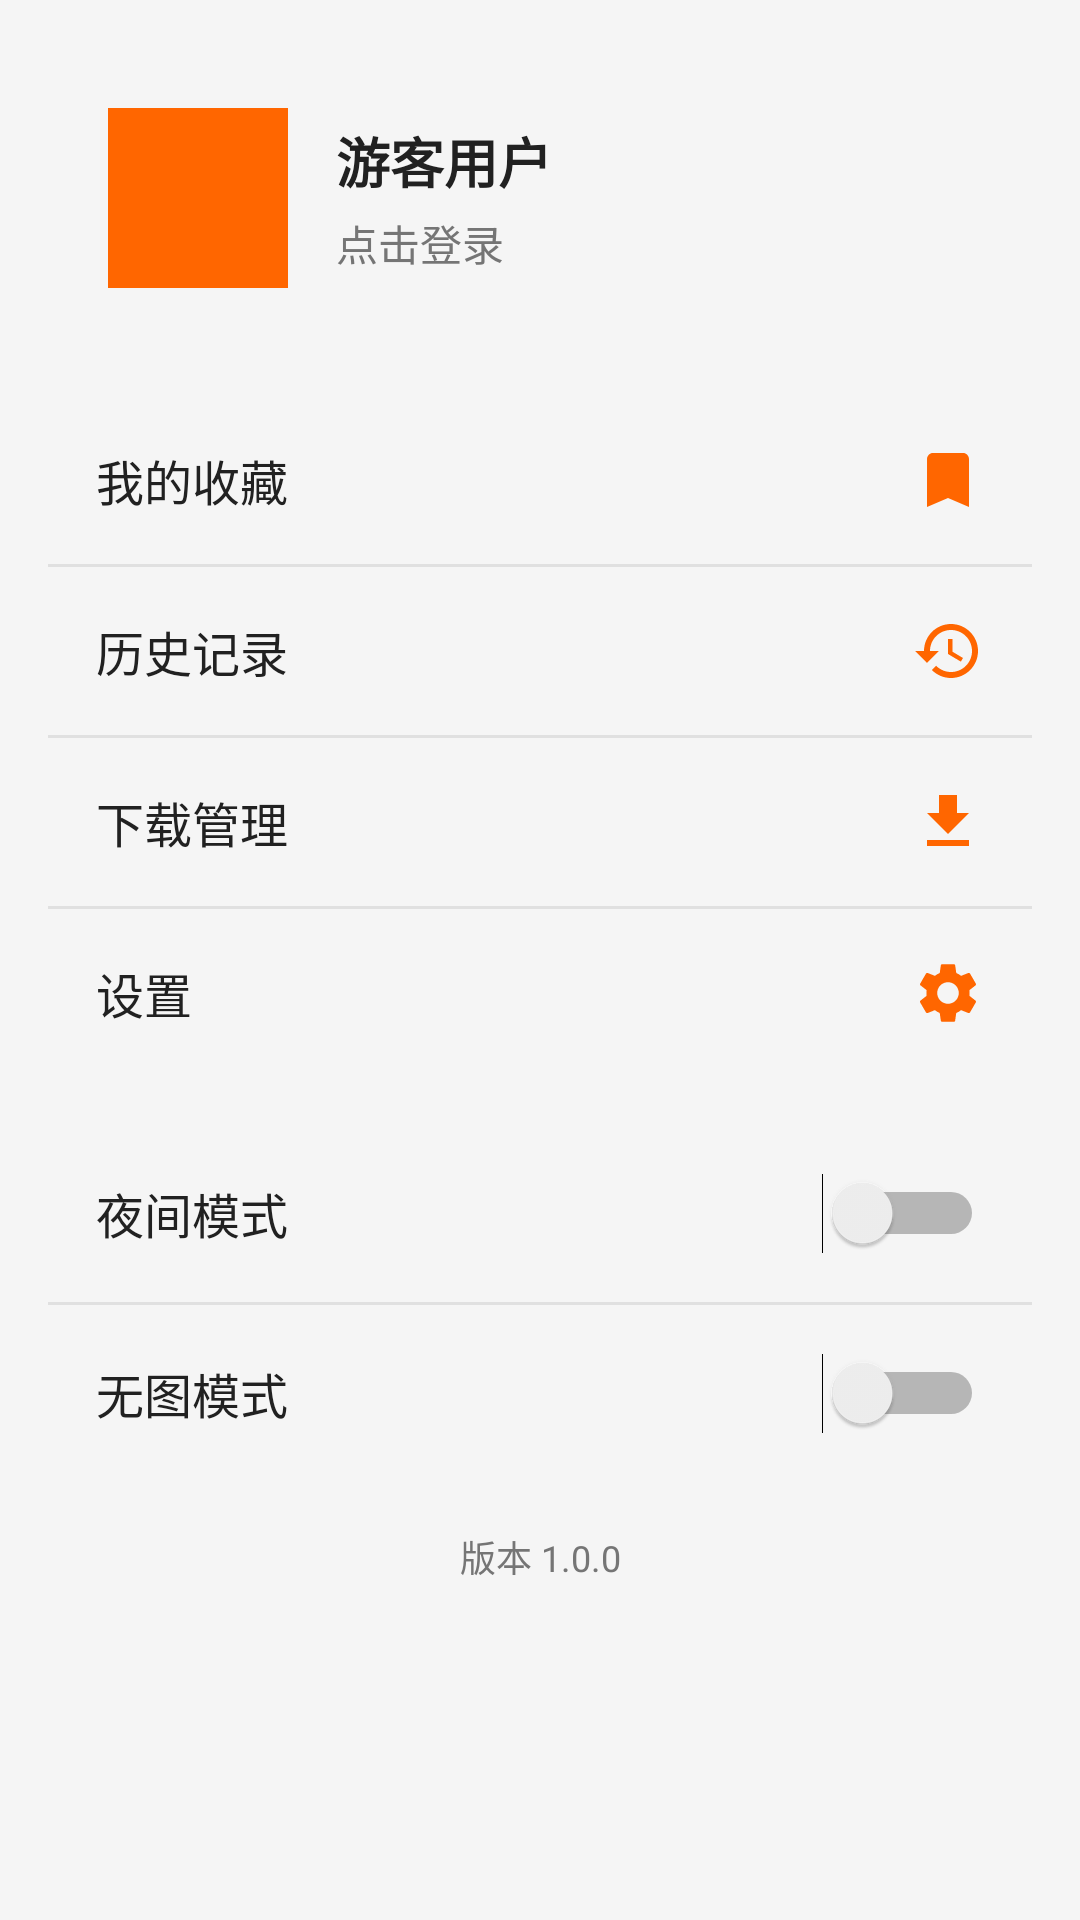

Where icons sit on this 1080 x 1920 app screen, as (x1, y1, x2, y2):
settings: (920, 964, 976, 1022)
